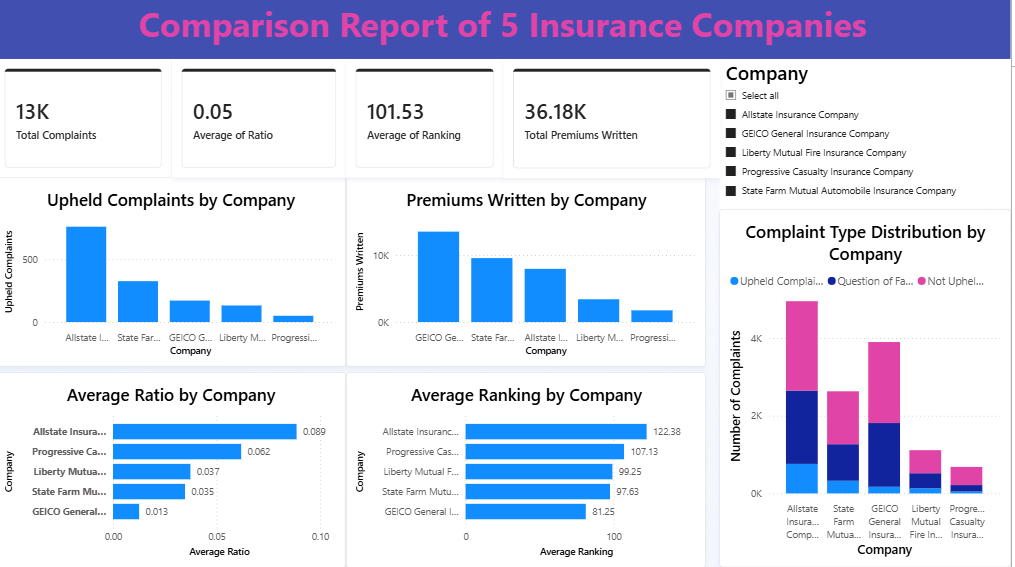

What the dashboard file says about the page in this screenshot:
{"tool":"powerbi","page":{"name":"Page 1","canvas":[1280,720],"ordinal":0},"visuals":[{"type":"textbox","box":[0,0,1279.4,79.4],"z":0},{"type":"cardVisual","fields":{"Data":["Sum(auto_table.Total_Complaints)"]},"box":[0,79.4,223,149.3],"z":1000},{"type":"slicer","fields":{"Values":["auto_table.Company_Name"]},"box":[912.8,79.4,366.6,189],"z":2000},{"type":"columnChart","title":"Complaint Type Distribution by Company","fields":{"Y":["Sum(auto_table.Upheld_Complaints)","Sum(auto_table.Question_of_Fact_Complaints)","Sum(auto_table.Not_Upheld_Complaints)"],"Category":["auto_table.Company_Name"]},"box":[912.8,268.3,366.6,451.7],"z":3000},{"type":"clusteredBarChart","title":"Average Ratio by Company","fields":{"Category":["auto_table.Company_Name"],"Y":["Avg(auto_table.Ratio)"]},"box":[0,474.3,442.2,245.7],"z":4000},{"type":"clusteredBarChart","title":"Average Ranking by Company","fields":{"Category":["auto_table.Company_Name"],"Y":["Avg(auto_table.Ranking)"]},"box":[442.2,474.3,453.5,245.7],"z":5000},{"type":"clusteredColumnChart","title":"Premiums Written by Company","fields":{"Y":["Sum(auto_table.Premiums_Written)"],"Category":["auto_table.Company_Name"]},"box":[442.2,228.7,453.5,238.1],"z":6000},{"type":"clusteredColumnChart","title":"Upheld Complaints by Company","fields":{"Y":["Sum(auto_table.Upheld_Complaints)"],"Category":["auto_table.Company_Name"]},"box":[0,228.7,442.2,238.1],"z":7000},{"type":"cardVisual","fields":{"Data":["Avg(auto_table.Ratio)"]},"box":[223,79.4,219.2,149.3],"z":8000},{"type":"cardVisual","fields":{"Data":["Avg(auto_table.Ranking)"]},"box":[442.2,79.4,198.4,149.3],"z":9000},{"type":"cardVisual","fields":{"Data":["Sum(auto_table.Premiums_Written)"]},"box":[640,79,273,150],"z":10000}]}

Visuals, with their boxes in screenshot pixels (x1, y1, x2, y2), scaled from the page's 1280x720 canvas onto the 1015x567 screenshot:
textbox: crop(0, 0, 1014, 63)
cardVisual - Sum(auto_table.Total_Complaints): crop(0, 63, 177, 180)
slicer - auto_table.Company_Name: crop(724, 63, 1014, 211)
"Complaint Type Distribution by Company" columnChart: crop(724, 211, 1014, 566)
"Average Ratio by Company" clusteredBarChart: crop(0, 374, 351, 566)
"Average Ranking by Company" clusteredBarChart: crop(351, 374, 710, 566)
"Premiums Written by Company" clusteredColumnChart: crop(351, 180, 710, 368)
"Upheld Complaints by Company" clusteredColumnChart: crop(0, 180, 351, 368)
cardVisual - Avg(auto_table.Ratio): crop(177, 63, 351, 180)
cardVisual - Avg(auto_table.Ranking): crop(351, 63, 508, 180)
cardVisual - Sum(auto_table.Premiums_Written): crop(508, 62, 724, 180)
